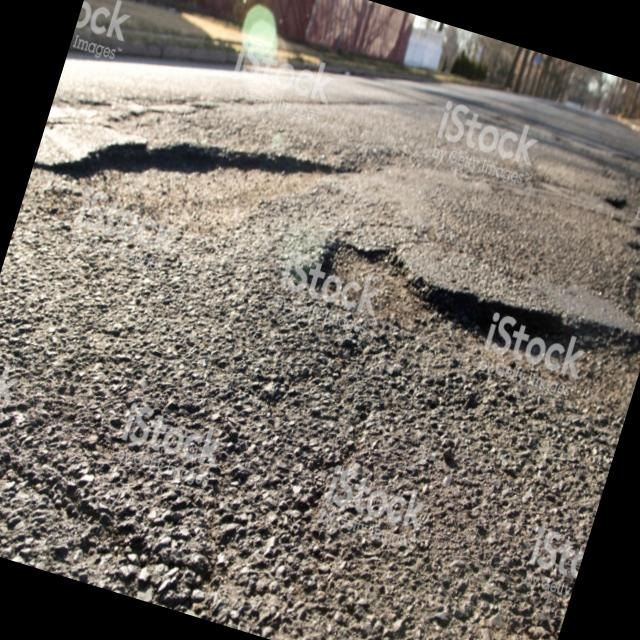Potholes: (254, 162, 640, 554), (29, 67, 352, 298)
